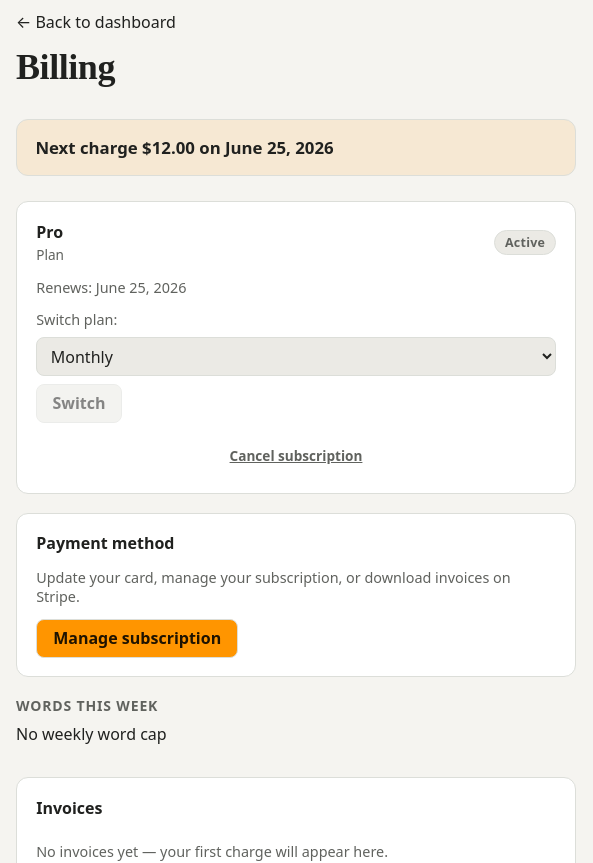
Scenario: BillingDashboard › requests a plan switch when the user picks Yearly
Select "Yearly" in the dropdown labelled "Switch plan:". click: (296, 357)
box: [36,337,556,376]
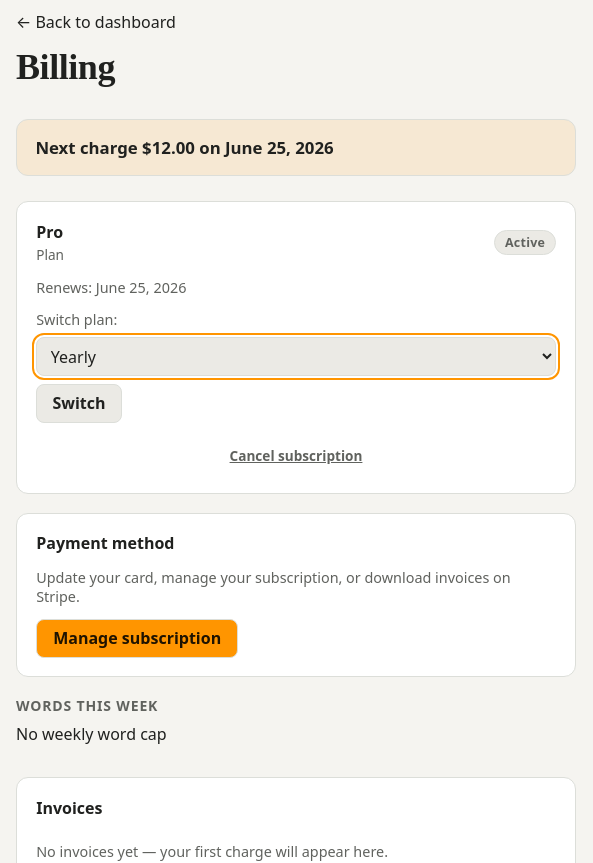
Click the button "Switch". click: (79, 403)
box: [36,384,122,422]
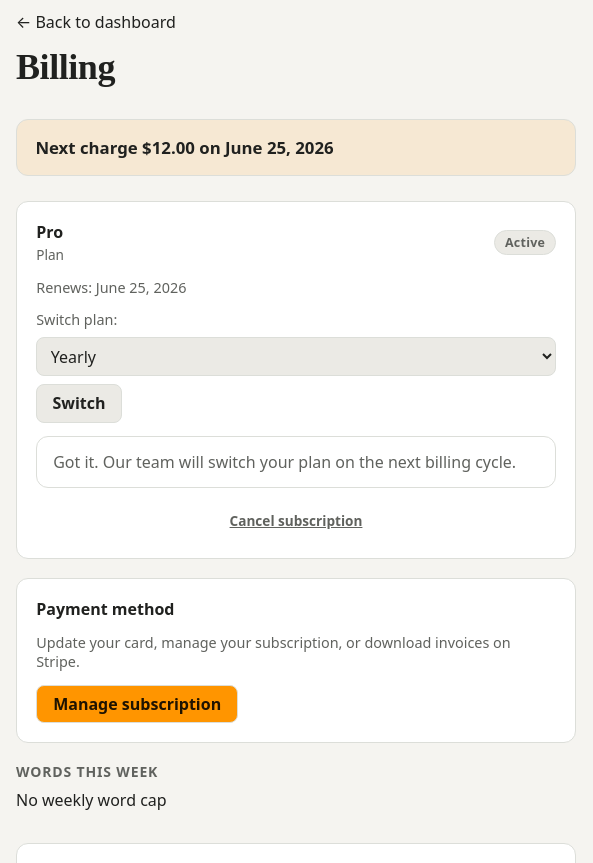
Result: the text "Our team will switch your plan on the next billing cycle" is shown at [53,451,516,473]
